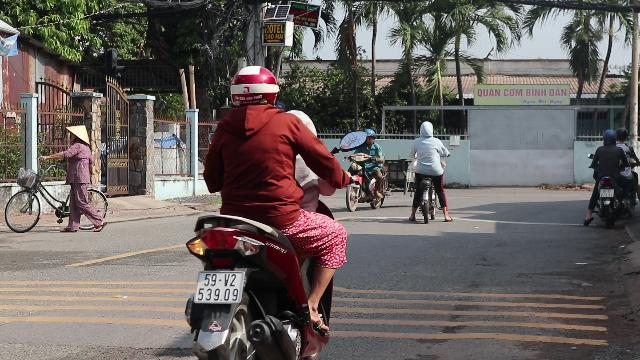helmet: (228, 66, 280, 108), (418, 121, 434, 136), (602, 128, 616, 144)
licenseplate: (194, 273, 242, 304), (600, 189, 614, 197)
motorcyclist: (177, 63, 355, 357), (584, 127, 640, 227), (406, 120, 452, 224)
